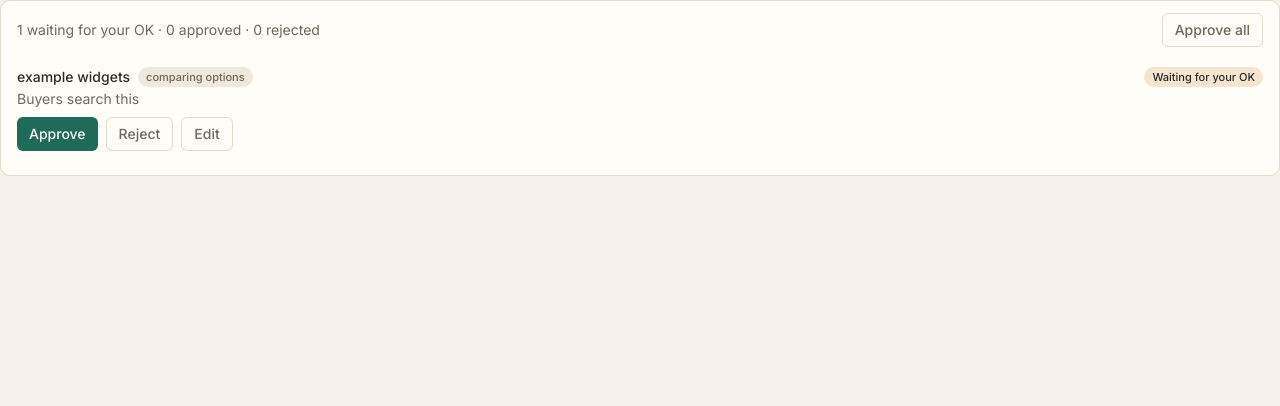
Test: ProposalList › shows the server's message when an edit is invalid
This screenshot has width=1280, height=406.
Click the button named "Edit keyword \"example widgets\"" at (207, 134), box [181, 117, 233, 151]
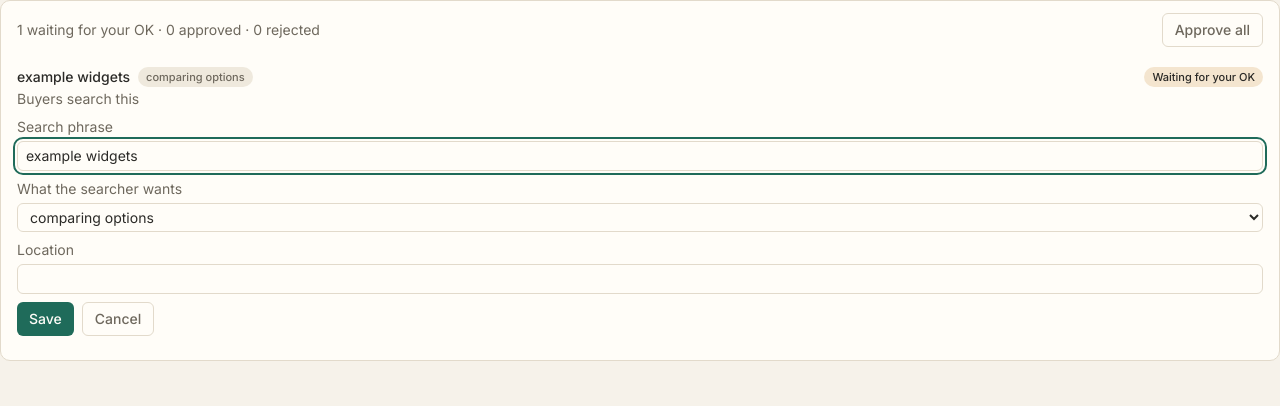
Click the button named "Save keyword \"example widgets\"" at (45, 319), box [17, 302, 74, 336]
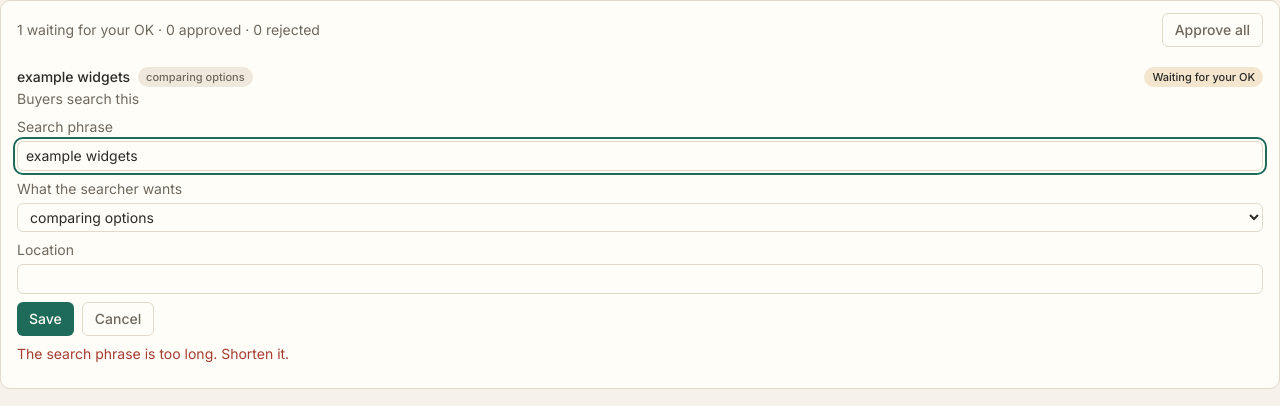
Now the message reads "The search phrase is too long. Shorten it.", box [17, 345, 289, 362]
